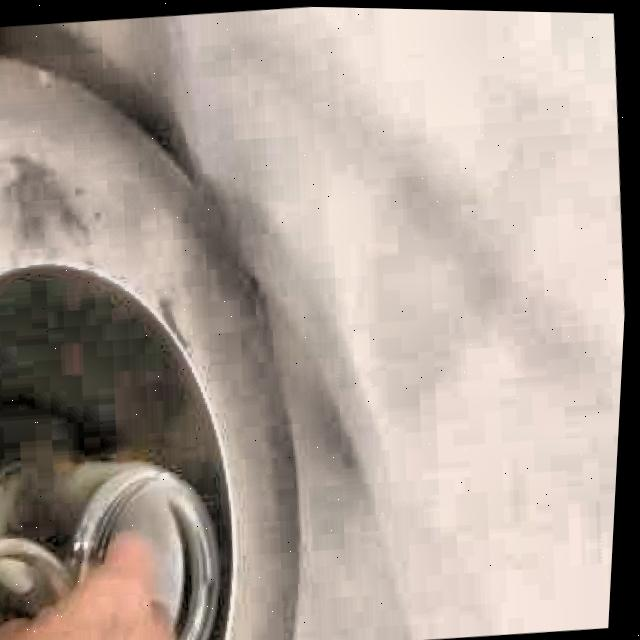glass: (0, 460, 221, 640)
